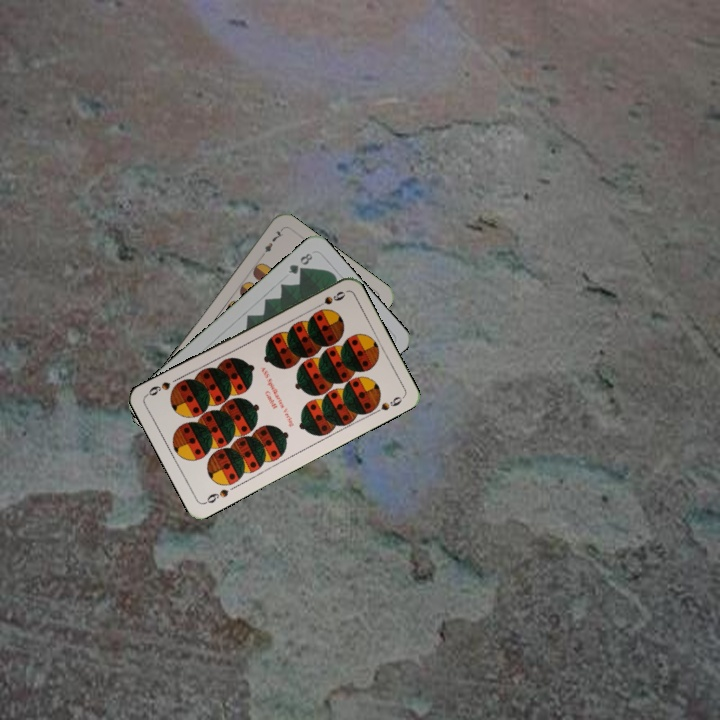E7: (256, 226, 286, 261)
G8: (284, 249, 315, 277)
S9: (310, 287, 348, 312), (200, 485, 231, 507)
